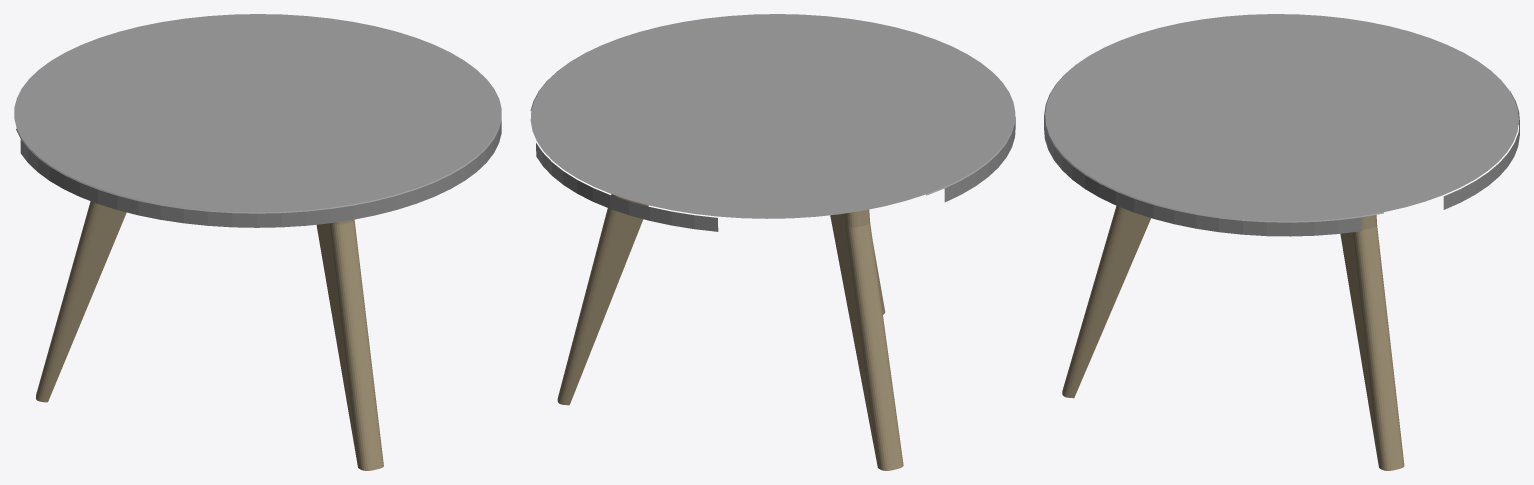
File: table.fbx
3 renders of one model, left to right at view 1: azimuth 30°, elevation 25°; view 2: azimuth 150°, elevation 25°; view 3: azimuth 270°, elevation 25°, orthographic.
Visible parts, largest first — view 1: table, legs; view 2: table, legs; view 3: table, legs.
Part boxes in pixels (x1,y1,x2,y2): table: (14,14,501,227); legs: (36,201,383,470); table: (530,14,1015,231); legs: (557,194,903,470); table: (1044,14,1519,236); legs: (1062,206,1404,470).
Size of the model in its own units: 80.1 by 51.22 by 79.1.
